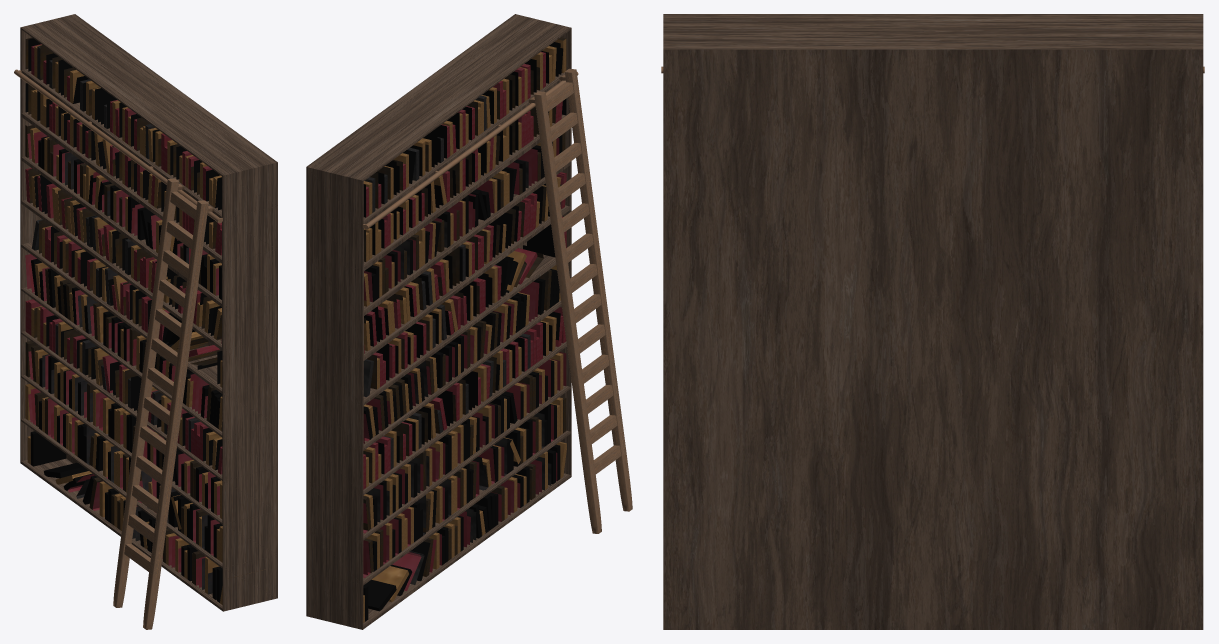
Rendered from bibliotheque_antique__antique_library.glb.
3 views of the same model, side by side, from view 1: azimuth 30°, elevation 25°; view 2: azimuth 150°, elevation 25°; view 3: azimuth 270°, elevation 25° (orthographic). The views are drawn at different scales.
Parts seen in each view (by area): view 1: bibli_3, livre04_9, livre02_8, echelle_7, livre07_12, Cube.341_6, Cube.266_5, Cube.232_4, livre06_11, barre_2; view 2: bibli_3, livre02_8, livre04_9, echelle_7, livre07_12, Cube.341_6, Cube.266_5, Cube.232_4, livre06_11, barre_2; view 3: bibli_3.
Part boxes in pixels (x1=…): bibli_3: x1=20, y1=14, x2=277, y2=611; livre04_9: x1=25, y1=44, x2=264, y2=604; livre02_8: x1=25, y1=38, x2=222, y2=602; echelle_7: x1=113, y1=178, x2=214, y2=629; livre07_12: x1=25, y1=44, x2=222, y2=572; Cube.341_6: x1=25, y1=37, x2=222, y2=585; Cube.266_5: x1=25, y1=102, x2=221, y2=587; Cube.232_4: x1=32, y1=46, x2=212, y2=594; livre06_11: x1=31, y1=67, x2=221, y2=552; barre_2: x1=14, y1=69, x2=222, y2=223; bibli_3: x1=306, y1=14, x2=571, y2=629; livre02_8: x1=363, y1=42, x2=566, y2=621; livre04_9: x1=363, y1=39, x2=566, y2=622; echelle_7: x1=528, y1=68, x2=632, y2=533; livre07_12: x1=363, y1=52, x2=566, y2=590; Cube.341_6: x1=363, y1=37, x2=566, y2=576; Cube.266_5: x1=363, y1=81, x2=566, y2=575; Cube.232_4: x1=363, y1=95, x2=551, y2=584; livre06_11: x1=363, y1=135, x2=562, y2=553; barre_2: x1=362, y1=71, x2=578, y2=229; bibli_3: x1=663, y1=14, x2=1203, y2=629.
Bounding box in the file's own units: 0.8661 × 3 × 2.49.
9 materials, 9 textured.
